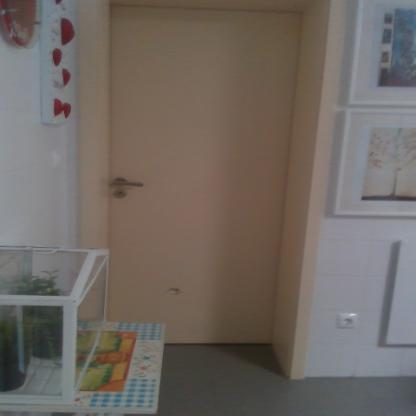closed: (91, 0, 307, 384)
